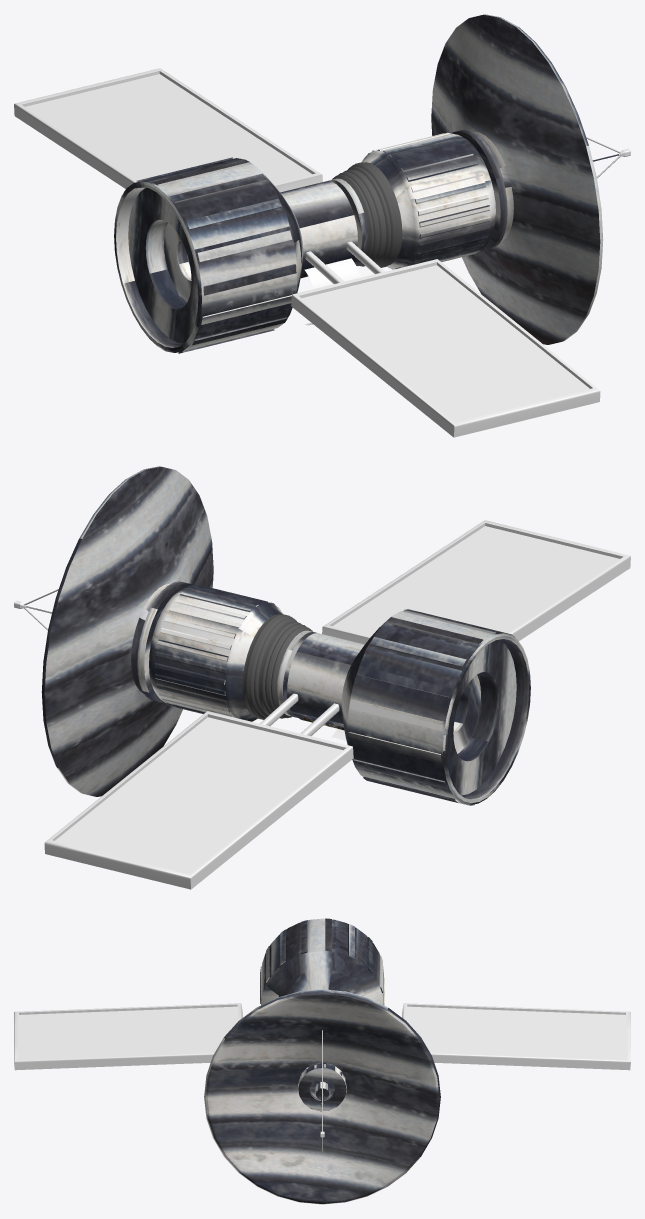
Rendered from satellite.glb.
3 renders of one model, top to bottom at view 1: azimuth 30°, elevation 25°; view 2: azimuth 150°, elevation 25°; view 3: azimuth 270°, elevation 25°, orthographic. The views are drawn at different scales.
Visible parts, largest first — view 1: Satélite_Cylinder.004, panels, Couro_Cylinder, Cylinder.001; view 2: Satélite_Cylinder.004, panels, Couro_Cylinder; view 3: Satélite_Cylinder.004, panels.
Part boxes in pixels (box(x1,y1,x2,y2)): Satélite_Cylinder.004: box(114, 14, 618, 353); panels: box(14, 68, 600, 437); Couro_Cylinder: box(332, 162, 402, 267); Cylinder.001: box(304, 258, 360, 325); Satélite_Cylinder.004: box(26, 466, 530, 805); panels: box(44, 520, 630, 889); Couro_Cylinder: box(242, 614, 312, 719); Satélite_Cylinder.004: box(204, 918, 440, 1204); panels: box(14, 1003, 630, 1070).
Bounding box in the file's own units: 6.21 × 3.85 × 10.02.
6 materials, 2 textured.
